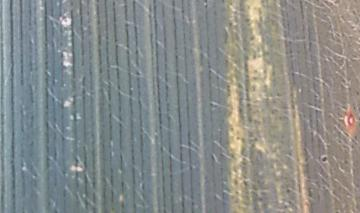tarspot: (317, 152, 331, 166)
